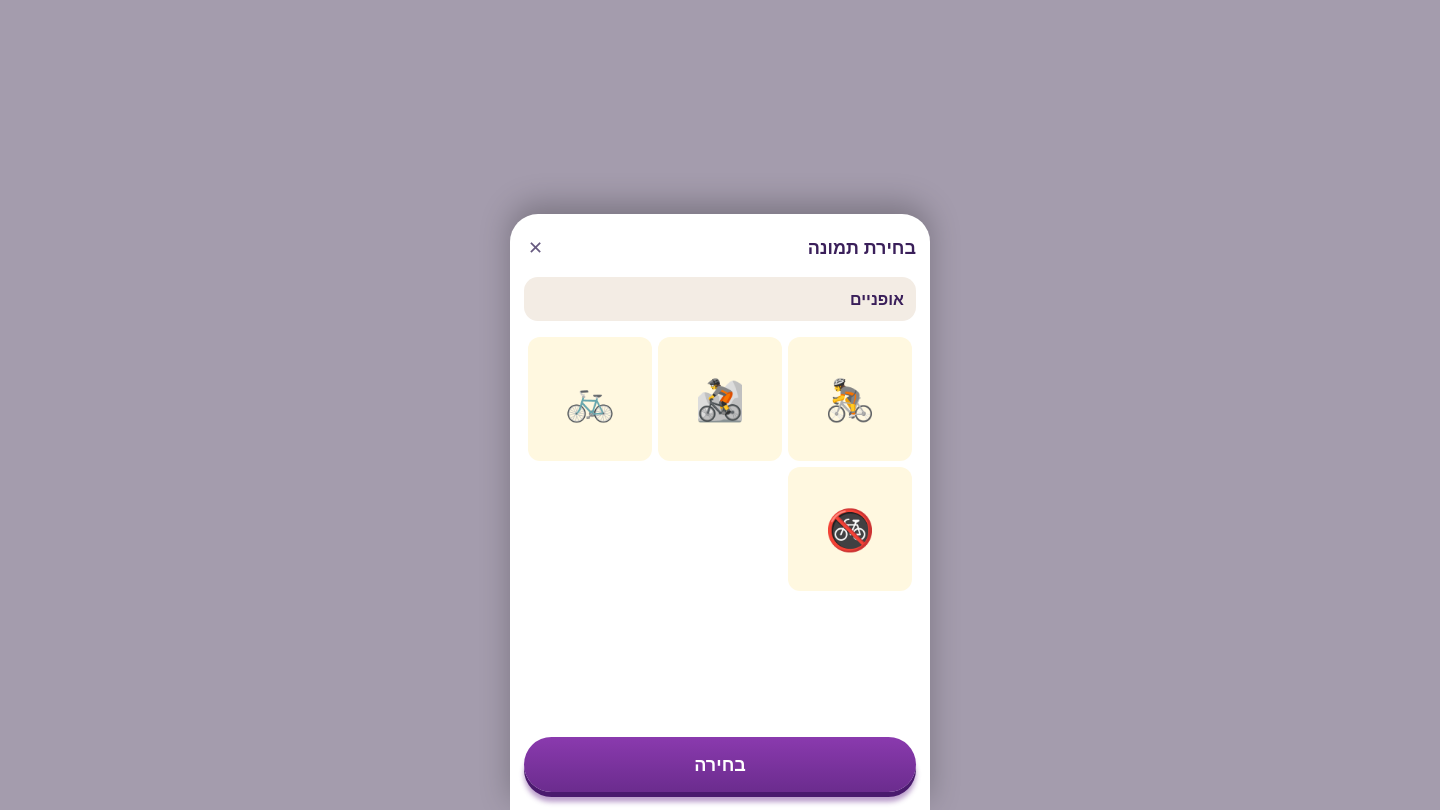
Test: GoalPictureSearch › opened with no picture › after typing another word › searches for what was typed
This screenshot has width=1440, height=810.
Replace the text in the search field with test id "goal-picture-search-query" with "כלב": (720, 299) [524,277,916,321]
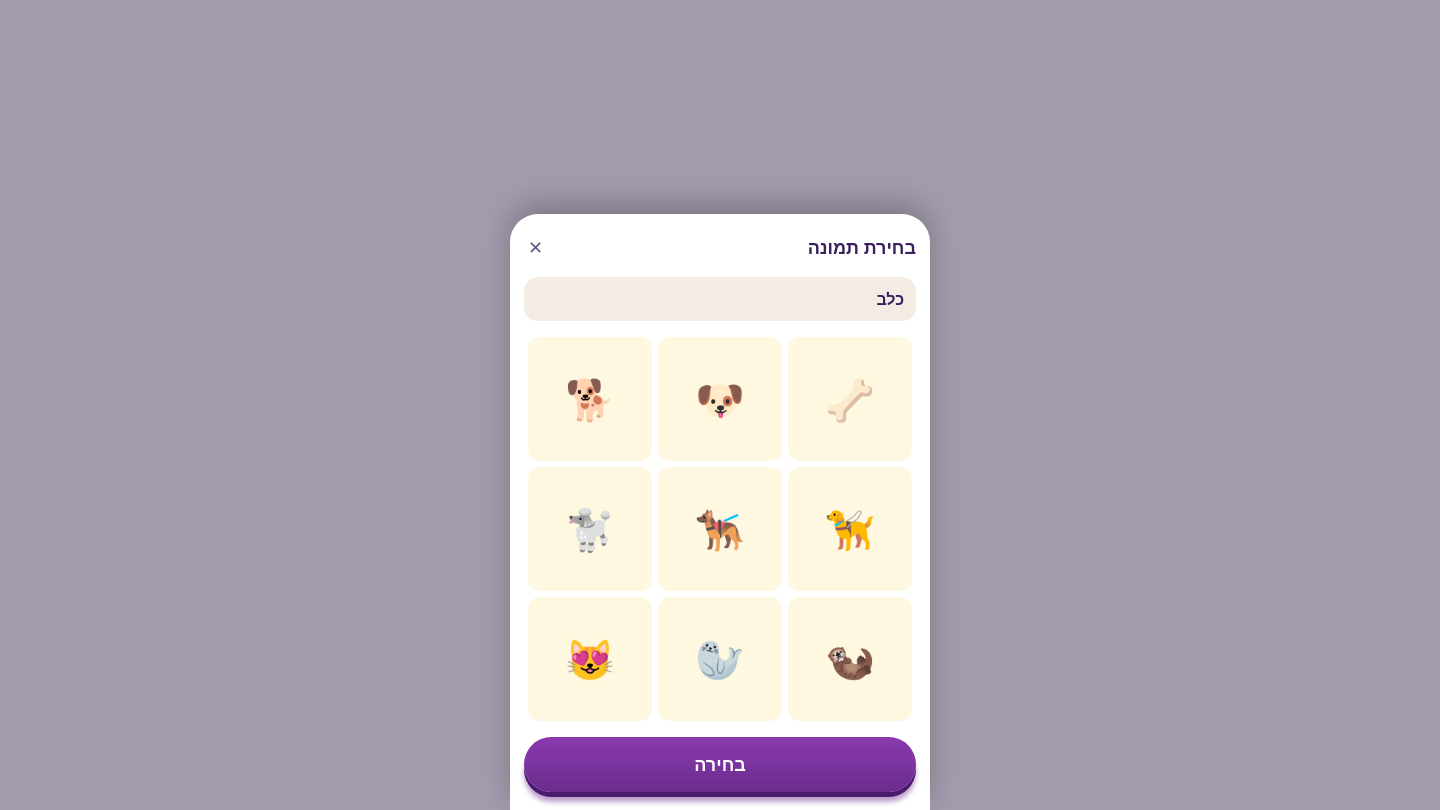
Expected: the button "🐶" is shown, [658,337,782,461]
